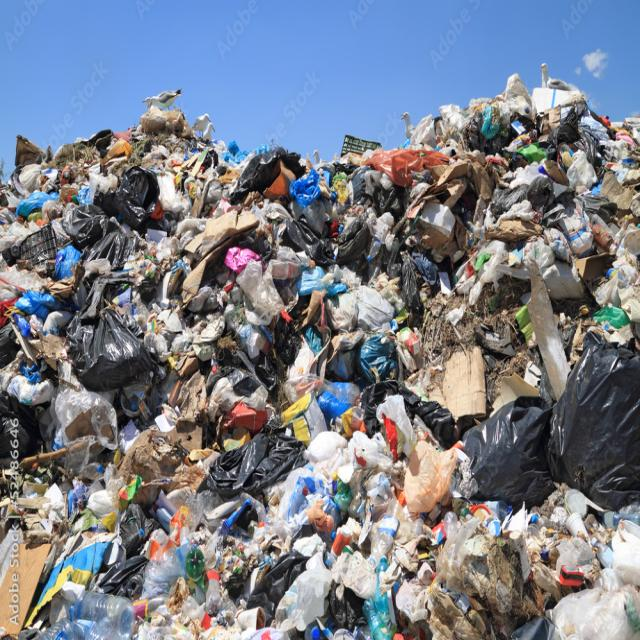cardboard: (10, 537, 56, 619), (440, 356, 489, 413)
plastic: (67, 595, 132, 633), (364, 597, 396, 631)
trash: (9, 131, 640, 486), (34, 125, 612, 338), (112, 388, 472, 526), (423, 519, 614, 637)
